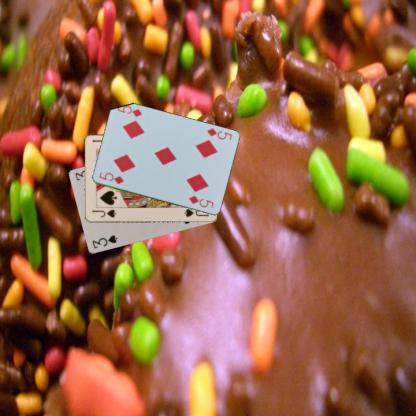3s: (90, 233, 118, 250)
5d: (96, 170, 125, 186), (204, 126, 233, 142)
Js: (90, 207, 117, 219)
